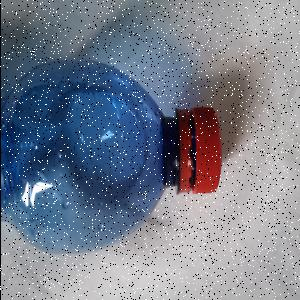Plastic-bottle: (2, 59, 224, 259)
